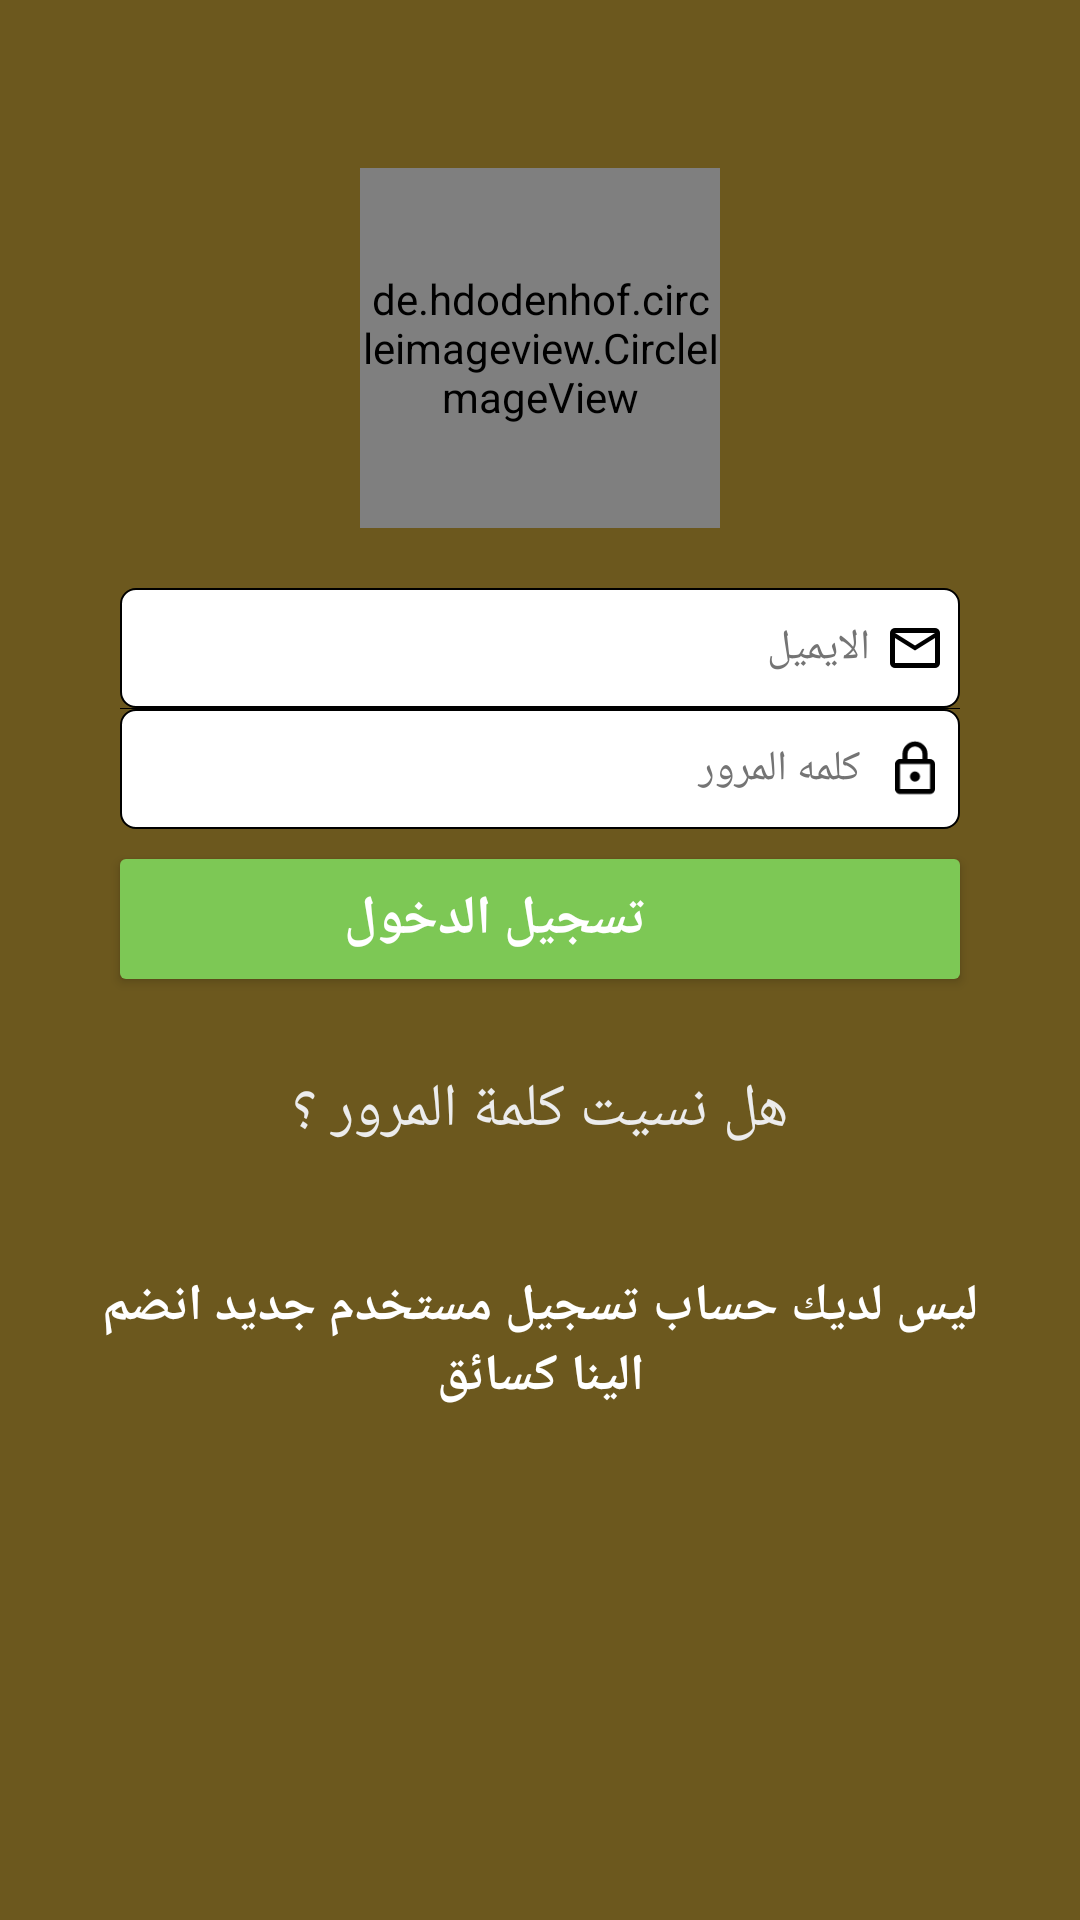

Where to tap for icons on this 1080×1920 app screen, as [x,y]:
email: [915,648]
lock: [915,768]
